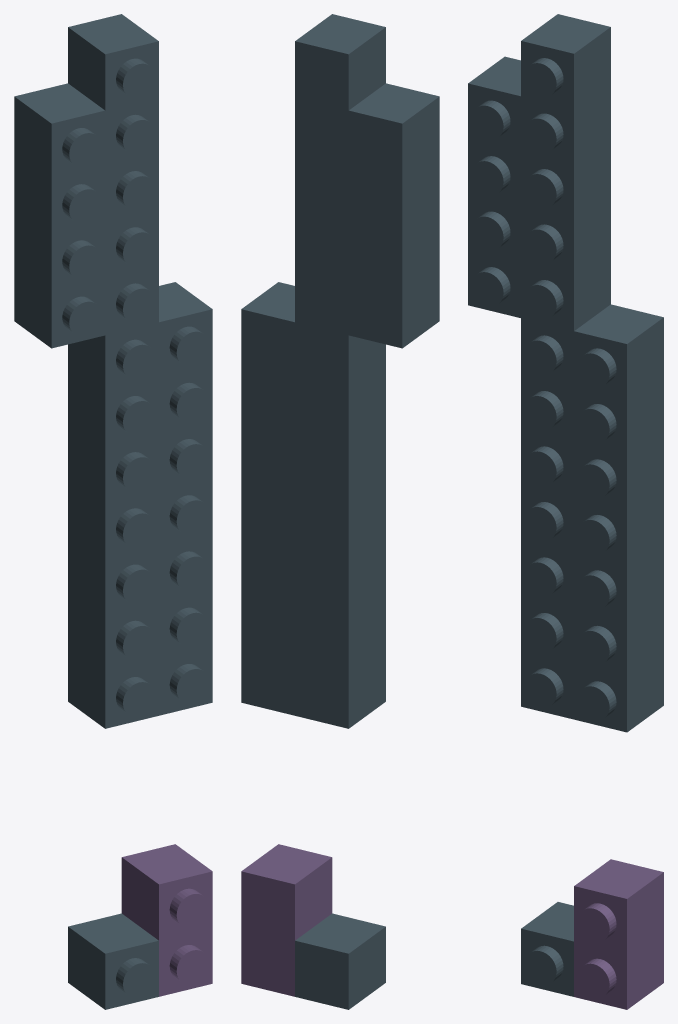
File: current.glb
3 renders of one model, left to right at view 1: azimuth 30°, elevation 25°; view 2: azimuth 150°, elevation 25°; view 3: azimuth 330°, elevation 25°, orthographic.
Parts seen in each view (by area): view 1: world; view 2: world; view 3: world.
Part boxes in pixels (<box>): world: <box>14,14,212,1009</box>; world: <box>241,14,439,1009</box>; world: <box>468,14,663,1009</box>.
Bounding box in the file's own units: 24 × 136 × 11.4.
